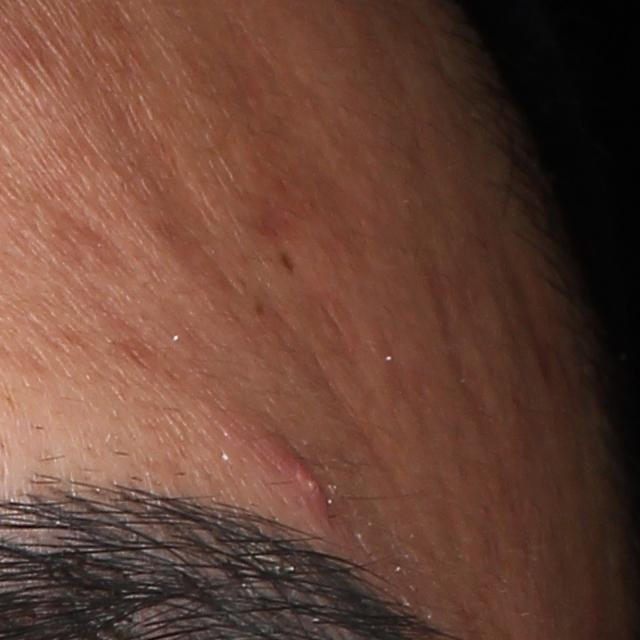nevus: (279, 251, 300, 277)
